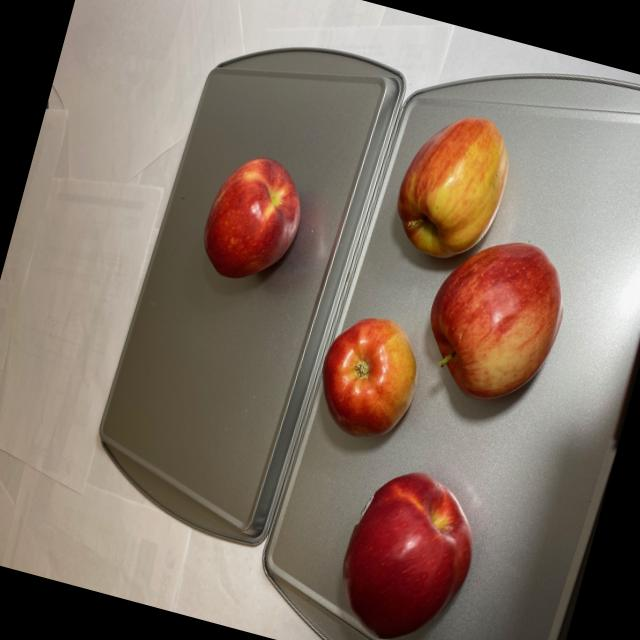apple: (260, 90, 608, 640), (190, 140, 318, 298)
